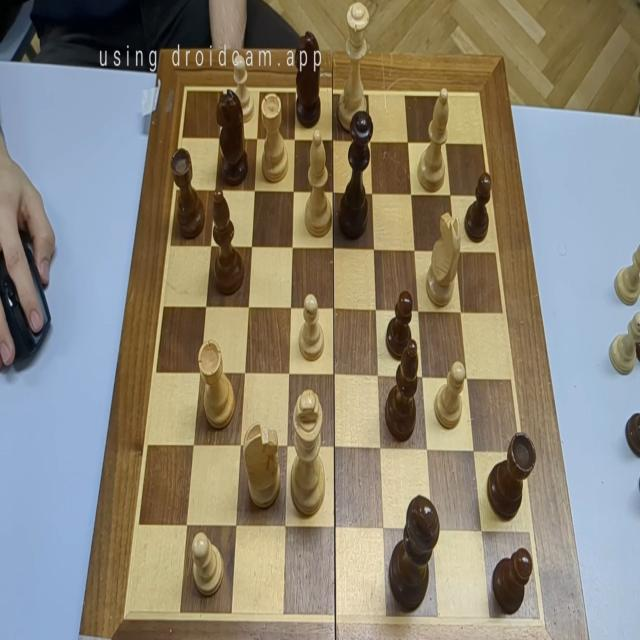black_bishop: (384, 338, 420, 440), (212, 188, 244, 296)
black_king: (387, 495, 439, 611)
black_knight: (216, 88, 248, 185), (294, 30, 321, 128)
black_pawn: (492, 547, 534, 614), (464, 172, 492, 242), (385, 291, 413, 360)
black_queen: (337, 108, 372, 241)
black_rook: (486, 431, 536, 520), (170, 148, 206, 238)
white_bishop: (416, 89, 449, 192), (304, 130, 332, 236)
white_king: (291, 389, 327, 514)
white_knight: (426, 212, 462, 307), (243, 421, 281, 508)
white_pawn: (434, 360, 466, 431), (192, 531, 224, 597), (298, 295, 324, 361), (232, 52, 254, 123)
white_queen: (338, 3, 370, 134)
white_rook: (198, 338, 234, 429), (261, 93, 287, 182)
